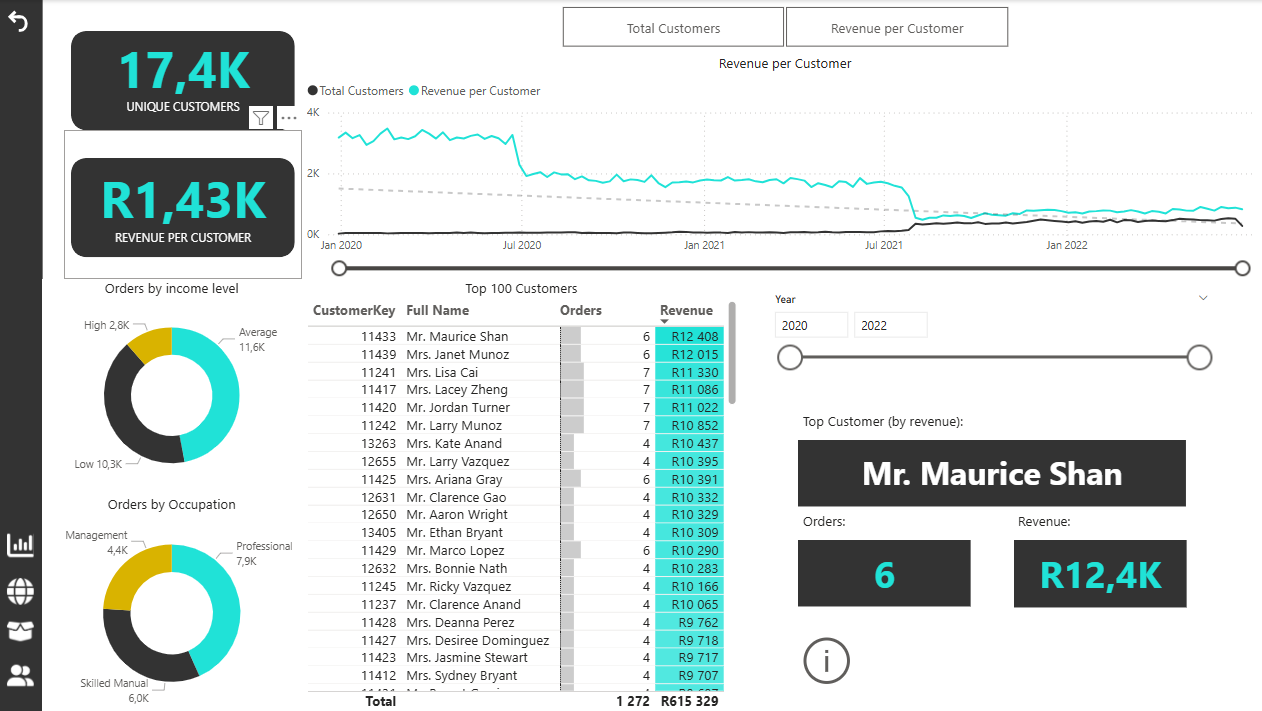

The page's visual inventory and layout, read from the dashboard file:
{"tool":"powerbi","page":{"name":"Customer Detail","canvas":[1280,720],"ordinal":3},"visuals":[{"type":"shape","box":[0,0,45,720],"z":0},{"type":"actionButton","box":[5.4,531.9,35,35],"z":0,"group":"g1"},{"type":"actionButton","box":[5.4,578.5,35,35],"z":1000,"group":"g1"},{"type":"shape","box":[73.3,158.9,225.6,100],"z":1000},{"type":"shape","box":[73.3,31.1,225.6,100],"z":2000},{"type":"actionButton","box":[5.4,618.8,35,35],"z":2000,"group":"g1"},{"type":"card","fields":{"Values":["Measure Table.Total Customers"]},"box":[66.7,0,240,150],"z":3000},{"type":"actionButton","box":[5.4,662.6,35,35],"z":3000,"group":"g1"},{"type":"card","fields":{"Values":["Measure Table.Average Revenue per Customer"]},"box":[66.3,130.7,240,150.4],"z":4000},{"type":"lineChart","fields":{"Y":["Measure Table.Total Customers","Measure Table.Average Revenue per Customer"],"Category":["Calendar Lookup.Date Hierarchy.Start of Year","Calendar Lookup.Date Hierarchy.Start of Month","Calendar Lookup.Date Hierarchy.Start of Week","Calendar Lookup.Date Hierarchy.Date"]},"box":[306.4,54.4,973.6,226.8],"z":5000},{"type":"donutChart","title":"Orders by income level","fields":{"Category":["Customer Lookup.Income Level"],"Y":["Measure Table.Total Orders"]},"box":[44.8,281.2,261.5,217.6],"z":6000},{"type":"donutChart","title":"Orders by Occupation","fields":{"Y":["Measure Table.Total Orders"],"Category":["Customer Lookup.Occupation"]},"box":[44.8,498.8,261.5,221.2],"z":7000},{"type":"tableEx","title":"Top 100 Customers","fields":{"Values":["Customer Lookup.CustomerKey","Customer Lookup.Full Name","Measure Table.Total Orders","Measure Table.Total Revenue"]},"box":[306.6,281.1,442.5,437.9],"z":8000},{"type":"textbox","box":[806.2,409.8,391.4,33.7],"z":9000},{"type":"card","fields":{"Values":["Customer Lookup.Full Name (Customer Detail)"]},"box":[806.2,443.4,391.4,67.4],"z":10000},{"type":"textbox","box":[806.2,510.8,174.2,33.7],"z":11000},{"type":"textbox","box":[1023.4,510.8,174.2,33.7],"z":12000},{"type":"card","fields":{"Values":["Measure Table.Total Orders (Customer Detail)"]},"box":[806.2,544.5,174.2,67.4],"z":13000},{"type":"card","fields":{"Values":["Measure Table.Total Revenue (Customer Detail)"]},"box":[1023.8,544.2,174,68.2],"z":14000},{"type":"slicer","fields":{"Values":["Calendar Lookup.Year"]},"box":[770,290.4,462.3,99.7],"z":15000},{"type":"actionButton","box":[805.1,635.9,391.4,59.9],"z":16000},{"type":"actionButton","box":[5.4,6.3,33.1,30.4],"z":17000},{"type":"group","id":"g1","title":"Navigation Buttons","box":[5.4,531.9,35,165.7],"z":18000},{"type":"slicer","fields":{"Values":["Customer Metric Selection.Customer Metric Selection"]},"box":[543.2,0,498.9,54.4],"z":19000}]}

Visuals, with their boxes on the page's 1280x720 design canvas (x1, y1, x2, y2). These are canvas units, not pixel positions in the 1262x711 screenshot, which may show the page scaled, cropped or inside an application window:
shape: {"left": 0, "top": 0, "right": 45, "bottom": 720}
actionButton: {"left": 5, "top": 532, "right": 40, "bottom": 567}
actionButton: {"left": 5, "top": 578, "right": 40, "bottom": 614}
shape: {"left": 73, "top": 159, "right": 299, "bottom": 259}
shape: {"left": 73, "top": 31, "right": 299, "bottom": 131}
actionButton: {"left": 5, "top": 619, "right": 40, "bottom": 654}
card - Measure Table.Total Customers: {"left": 67, "top": 0, "right": 307, "bottom": 150}
actionButton: {"left": 5, "top": 663, "right": 40, "bottom": 698}
card - Measure Table.Average Revenue per Customer: {"left": 66, "top": 131, "right": 306, "bottom": 281}
lineChart - Measure Table.Total Customers x Measure Table.Average Revenue per Customer: {"left": 306, "top": 54, "right": 1280, "bottom": 281}
"Orders by income level" donutChart: {"left": 45, "top": 281, "right": 306, "bottom": 499}
"Orders by Occupation" donutChart: {"left": 45, "top": 499, "right": 306, "bottom": 720}
"Top 100 Customers" tableEx: {"left": 307, "top": 281, "right": 749, "bottom": 719}
textbox: {"left": 806, "top": 410, "right": 1198, "bottom": 444}
card - Customer Lookup.Full Name (Customer Detail): {"left": 806, "top": 443, "right": 1198, "bottom": 511}
textbox: {"left": 806, "top": 511, "right": 980, "bottom": 544}
textbox: {"left": 1023, "top": 511, "right": 1198, "bottom": 544}
card - Measure Table.Total Orders (Customer Detail): {"left": 806, "top": 544, "right": 980, "bottom": 612}
card - Measure Table.Total Revenue (Customer Detail): {"left": 1024, "top": 544, "right": 1198, "bottom": 612}
slicer - Calendar Lookup.Year: {"left": 770, "top": 290, "right": 1232, "bottom": 390}
actionButton: {"left": 805, "top": 636, "right": 1196, "bottom": 696}
actionButton: {"left": 5, "top": 6, "right": 38, "bottom": 37}
"Navigation Buttons" group: {"left": 5, "top": 532, "right": 40, "bottom": 698}
slicer - Customer Metric Selection.Customer Metric Selection: {"left": 543, "top": 0, "right": 1042, "bottom": 54}
